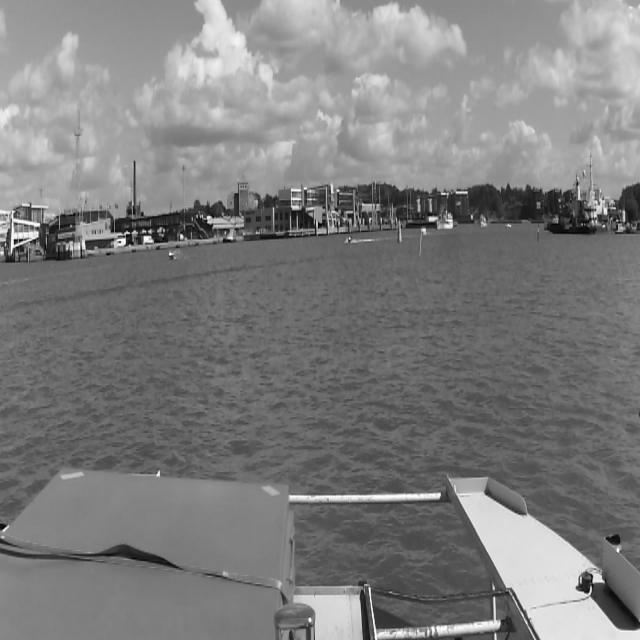buoy: (534, 220, 540, 240), (398, 220, 402, 242), (419, 228, 421, 255)
ship: (546, 152, 614, 235), (437, 204, 453, 230), (166, 247, 184, 261), (345, 231, 355, 245), (480, 214, 488, 228), (418, 223, 426, 235), (504, 220, 512, 230)
